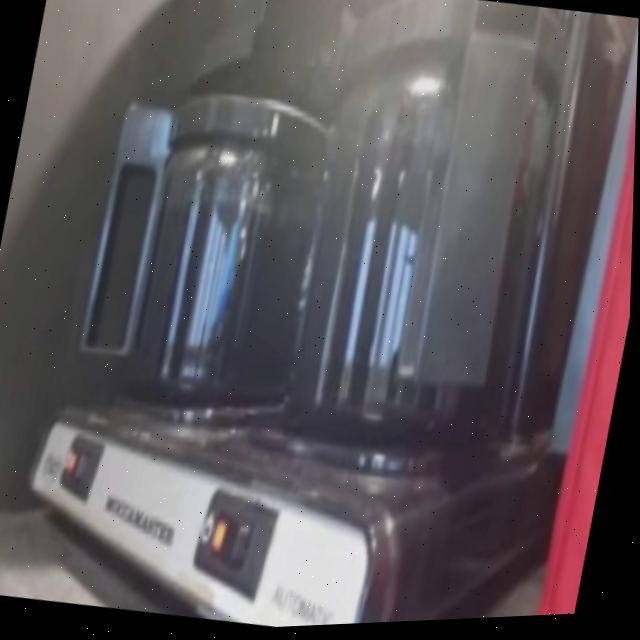coffee: (291, 86, 554, 444), (121, 167, 325, 414)
